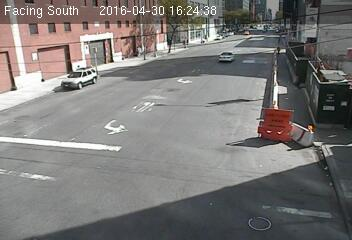neg: (321, 102, 351, 149), (284, 90, 307, 122), (99, 34, 121, 63), (58, 71, 73, 90), (3, 83, 16, 100), (25, 73, 36, 88)
